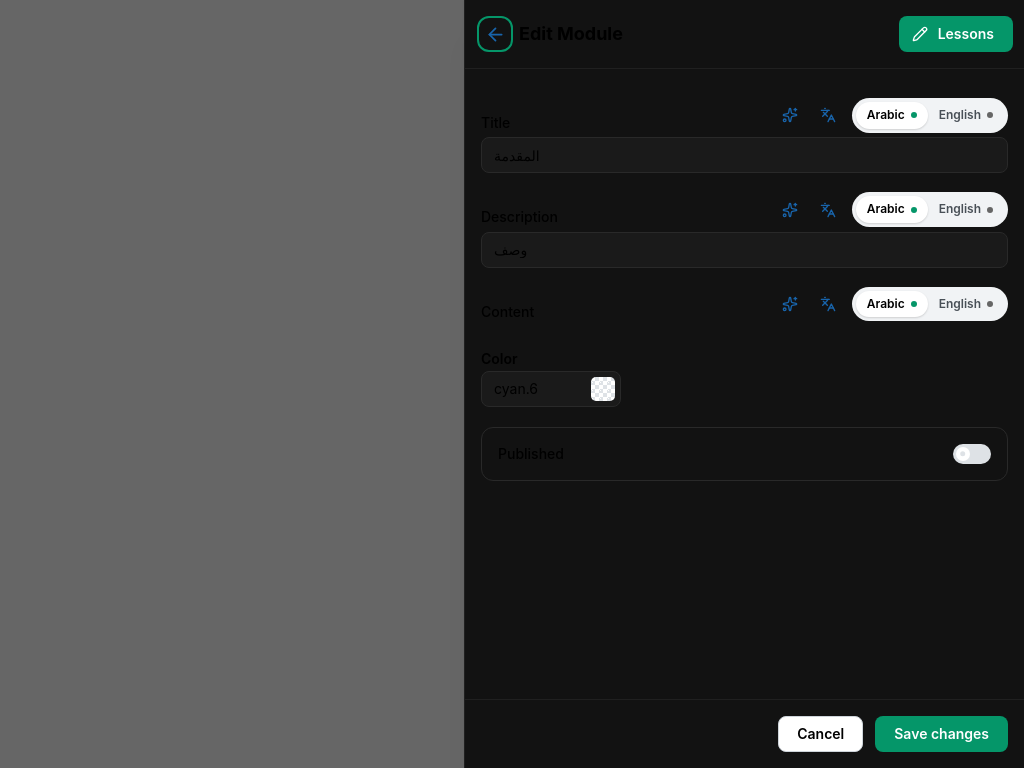
EditModuleDrawer › clicking Lessons opens a nested drawer above the Module editor, which stays mounted underneath it
Click the button "Lessons" at (956, 34), box [899, 16, 1013, 52]
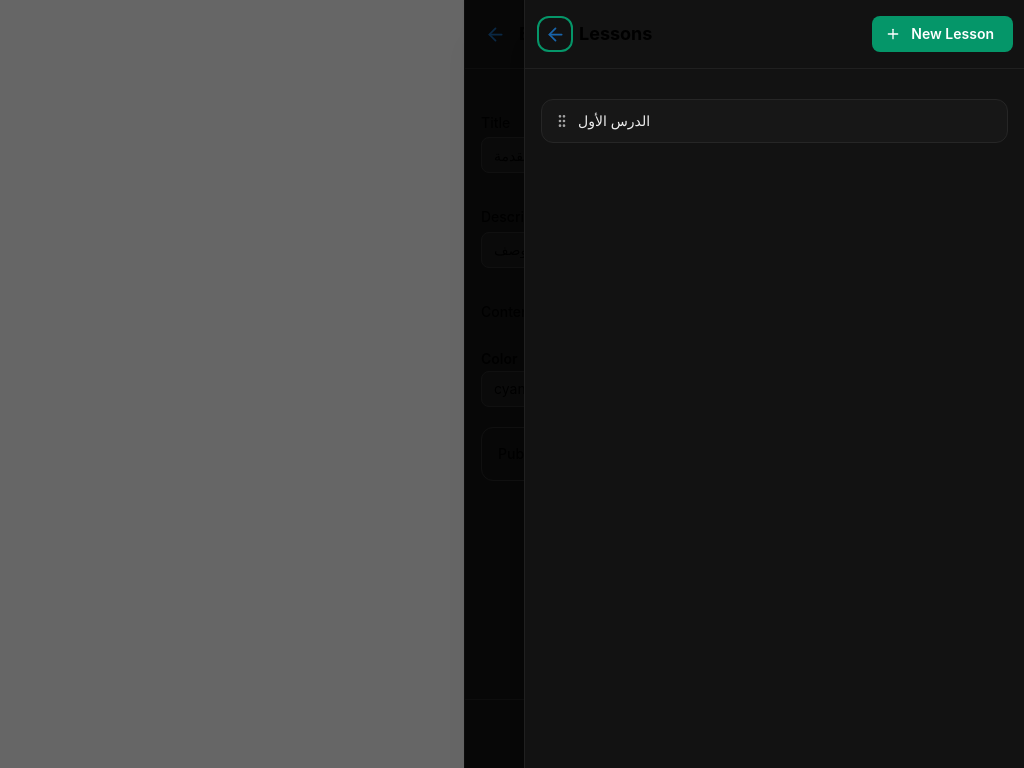
Expected: the dialog "Edit Module" is shown, [464, 0, 1023, 767]
Result: the dialog "Lessons" is shown at [524, 0, 1023, 767]
Result: the text "الدرس الأول" is shown at [578, 112, 650, 129]
